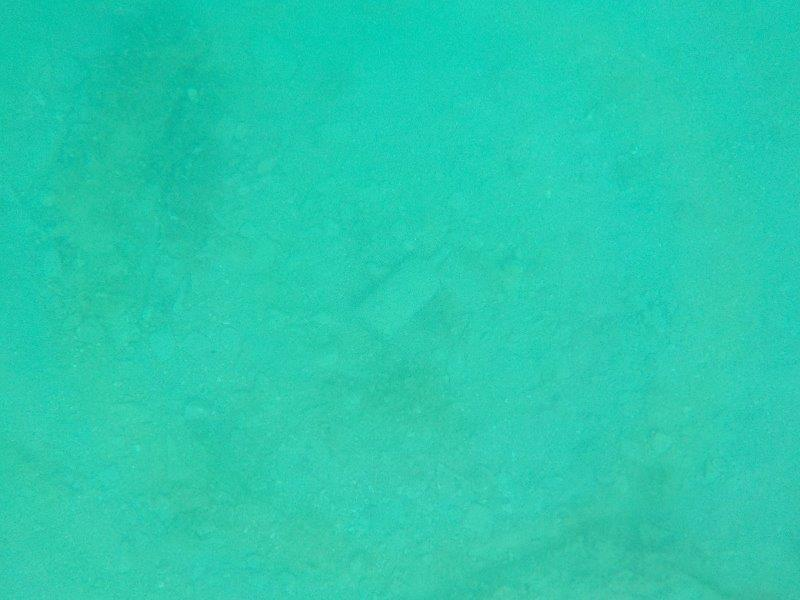bottle: (355, 236, 459, 342)
